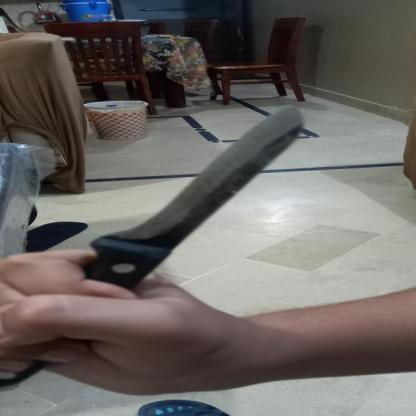Knife: (0, 107, 309, 386)
